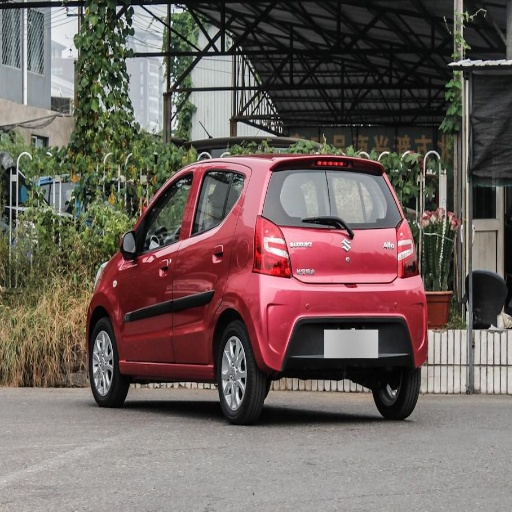back_bumper: (256, 275, 423, 378)
back_glass: (275, 172, 328, 221)
back_left_door: (173, 168, 243, 363)
trunk: (257, 185, 399, 310)
